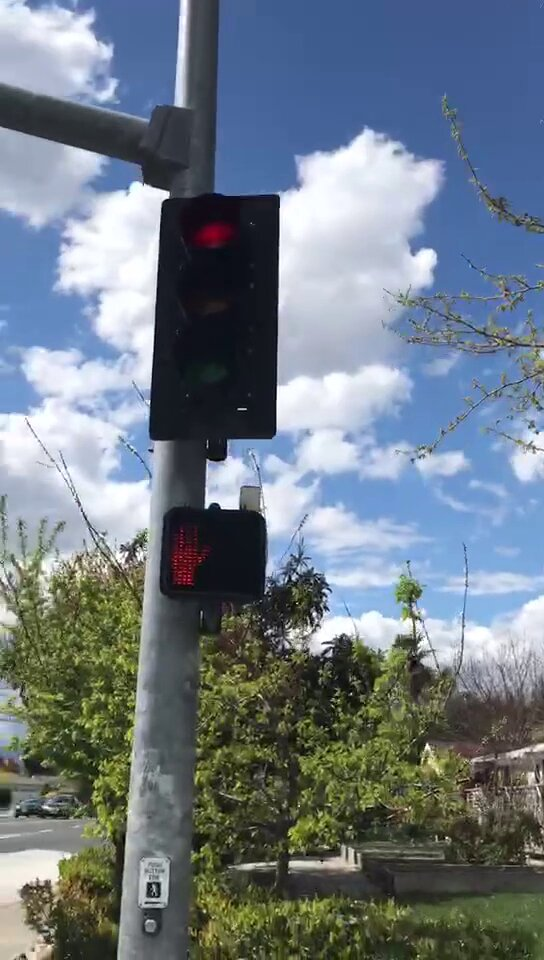red_light: (162, 198, 278, 439)
